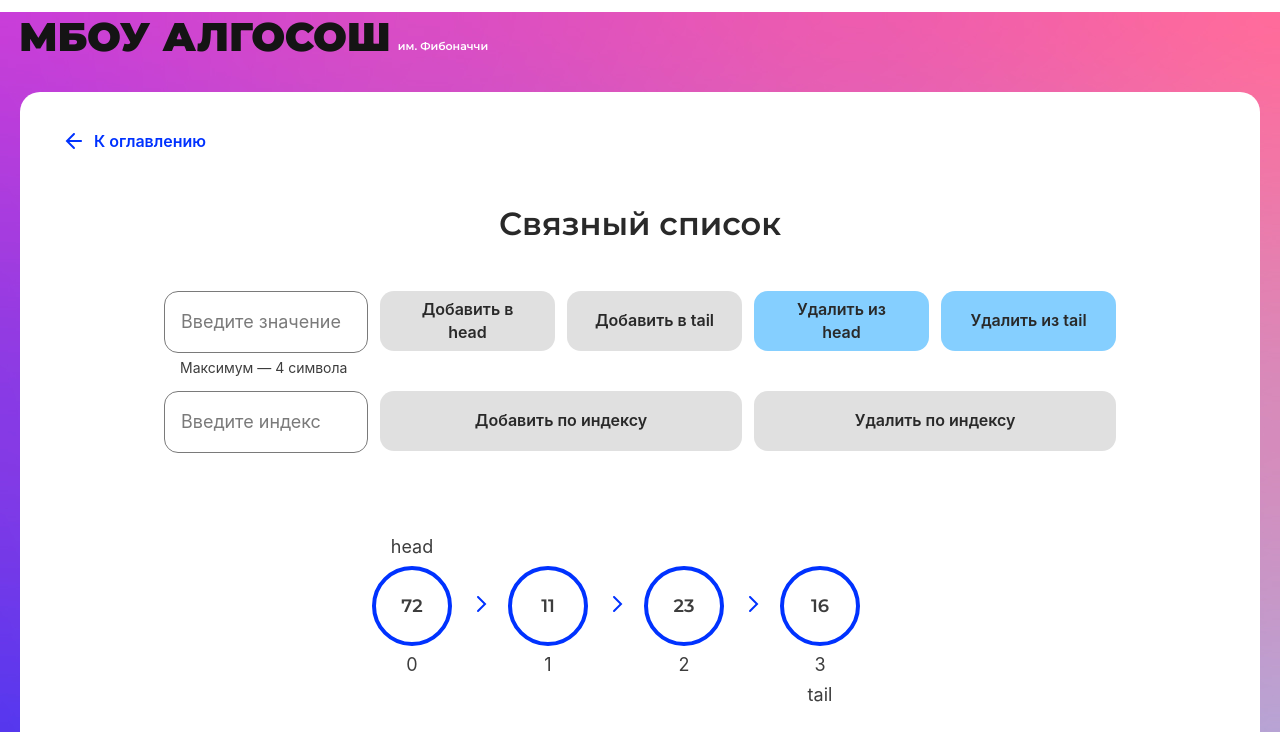
Test: list page display correctly › should add to head works correctly
Type "1" into the field with test id "inputValue" at [266, 322], box [164, 291, 368, 353]
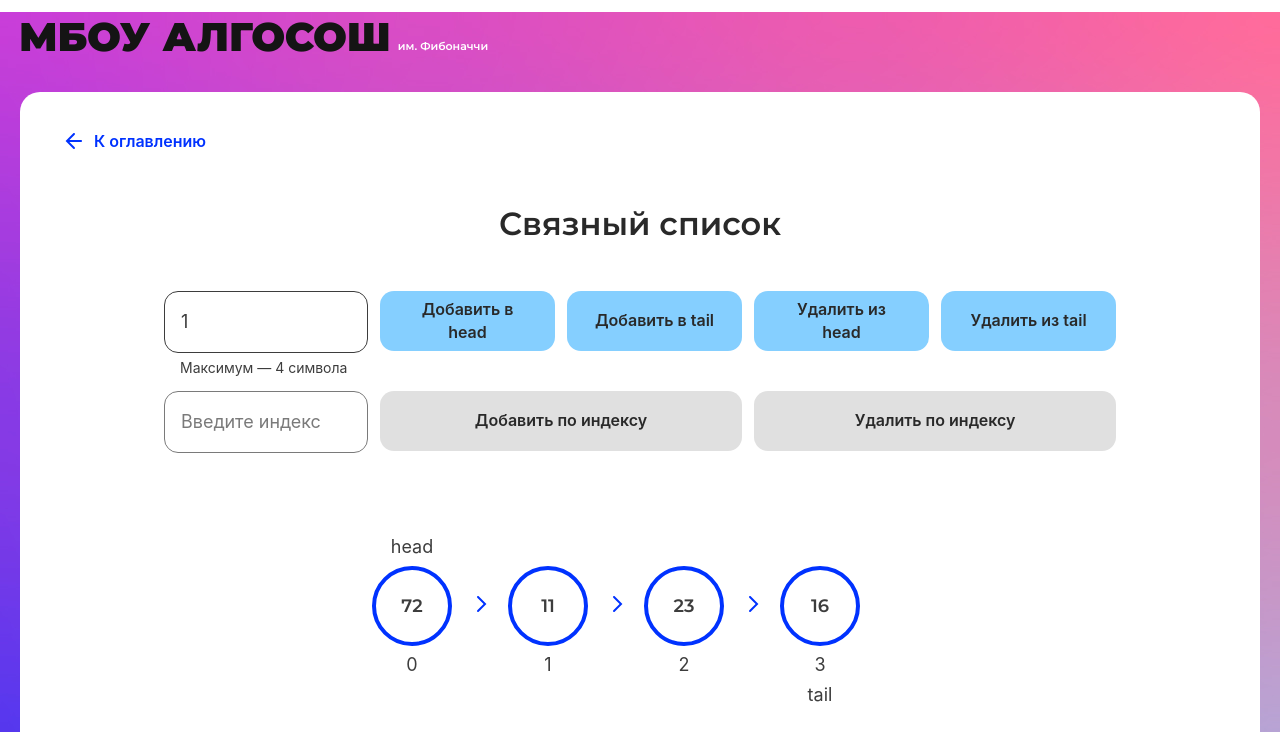
Click the button with test id "addIntoHead" at [468, 321], box [380, 291, 555, 351]
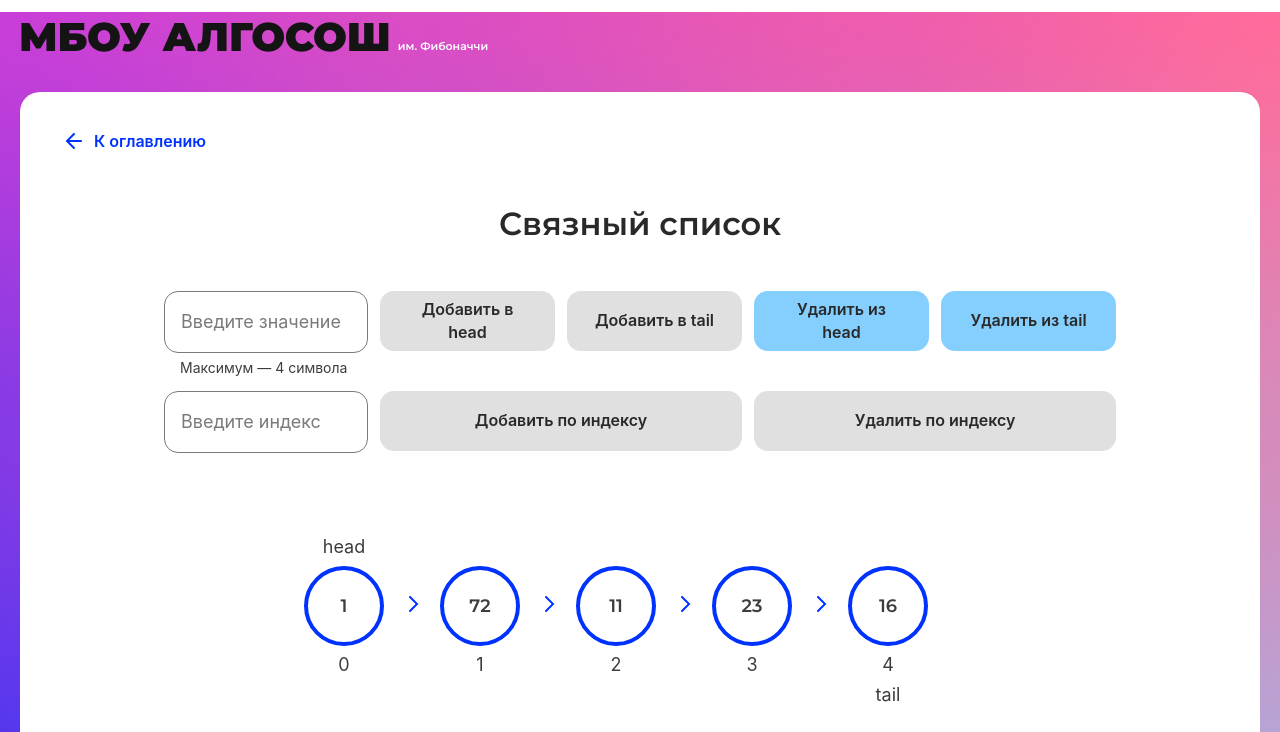
Expected: the number of elements with test id "circle-cont" is 5, [304, 566, 384, 646]; [440, 566, 520, 646]; [576, 566, 656, 646]; [712, 566, 792, 646]; [848, 566, 928, 646]
Expected: the number of icons with test id "arrow" is 4, [400, 592, 424, 616]; [536, 592, 560, 616]; [672, 592, 696, 616]; [808, 592, 832, 616]
